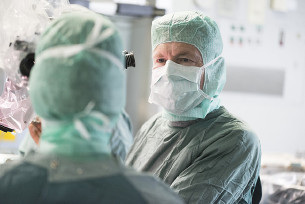face_mask: (150, 40, 205, 110)
